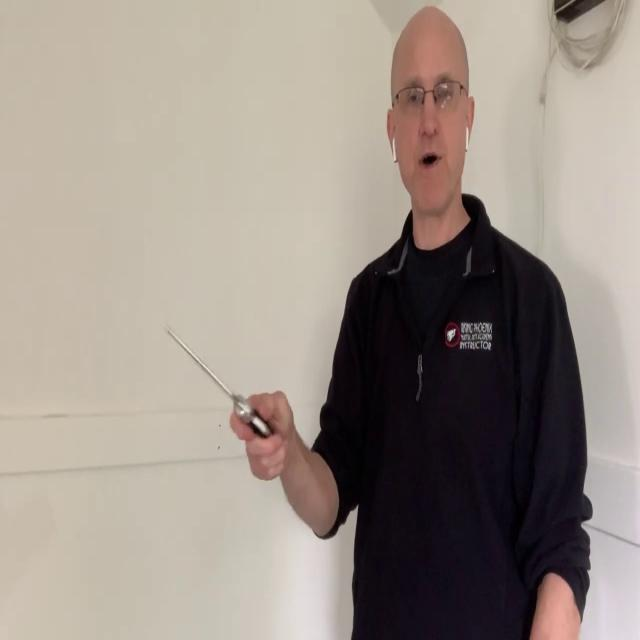Knife_Handle: (164, 321, 289, 481)
